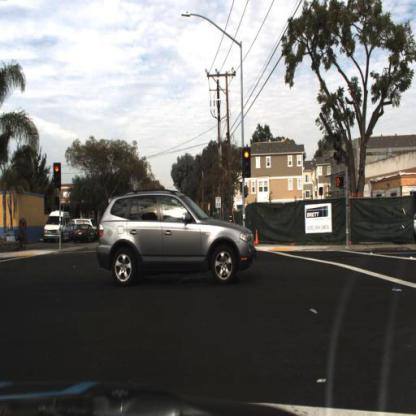car: (97, 190, 260, 286), (43, 213, 72, 244), (71, 219, 95, 244), (74, 212, 95, 228)
pedestrian: (17, 215, 28, 255), (18, 219, 28, 250)
trafficLight: (244, 147, 254, 177)
trafficLight-Red: (54, 162, 63, 188)
